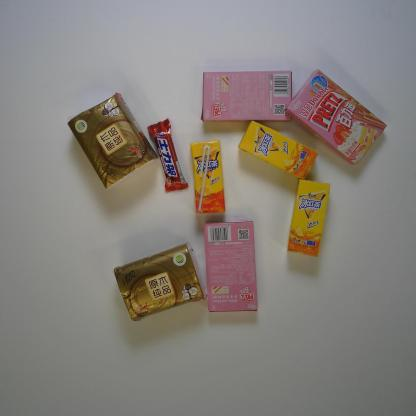Chocolate: (146, 117, 188, 194)
Dessert: (284, 66, 388, 166), (199, 67, 293, 126), (204, 221, 259, 314)
Drink: (238, 119, 318, 179), (286, 178, 330, 258), (189, 139, 227, 218)
Tissue: (67, 89, 159, 197), (113, 240, 207, 324)
